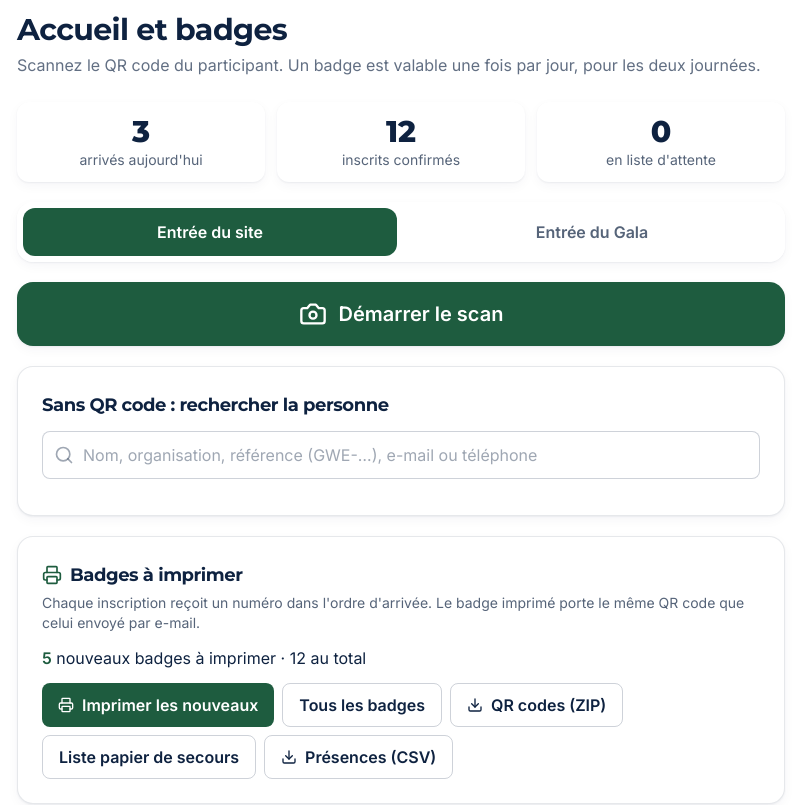
Test case: Accueil : scan des badges › permet de valider l'arrivée d'une personne sans QR code
Type "awa" into the search field labelled "Nom, organisation, référence (GWE-…), e-mail ou téléphone" at (401, 455), box [42, 431, 760, 479]
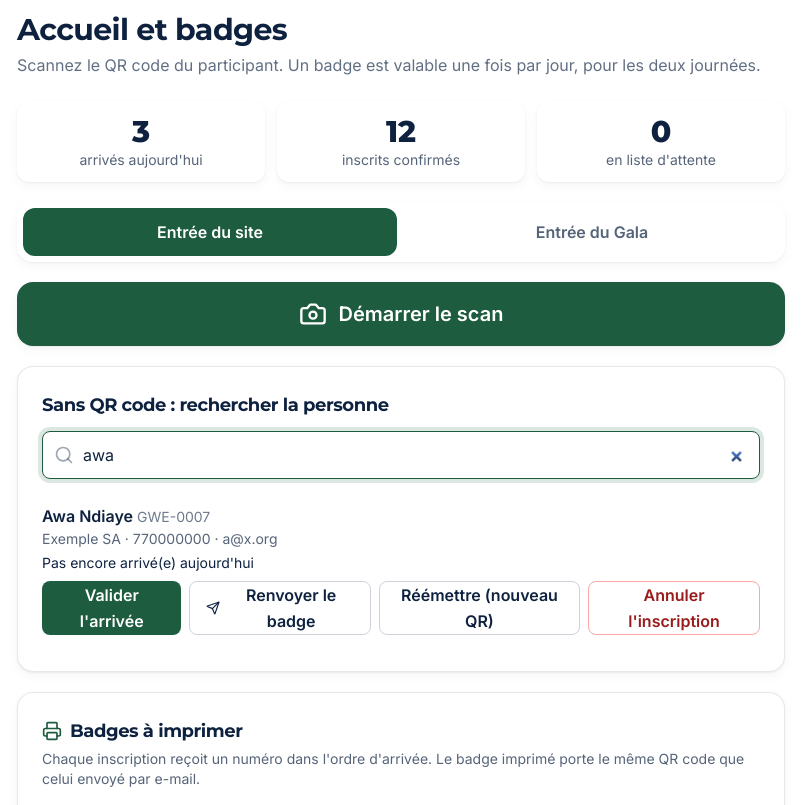
Click the button "Valider l'arrivée" at (112, 608), box [42, 581, 181, 635]
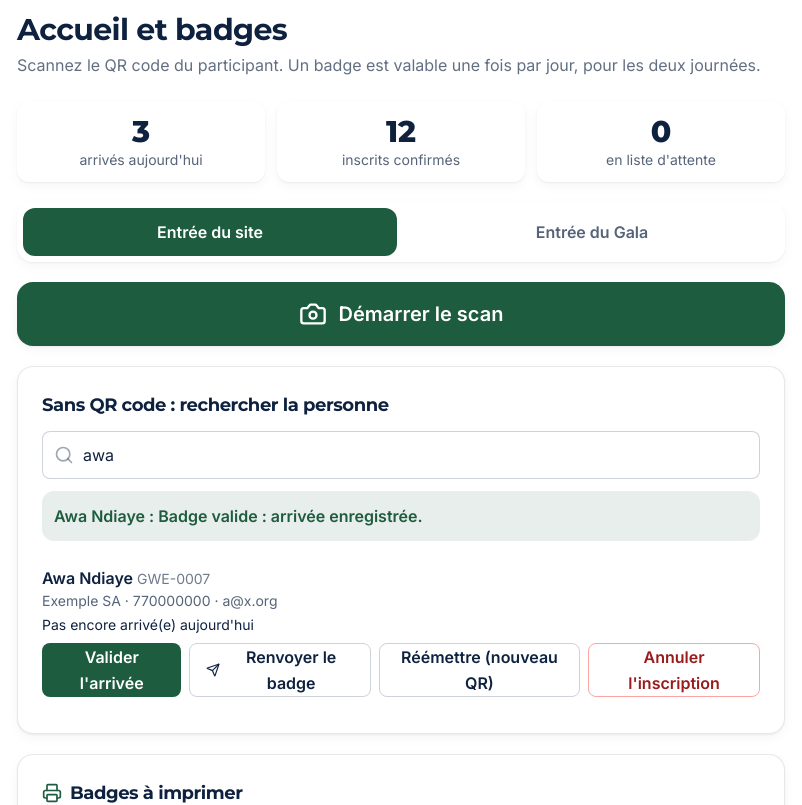
Expected: the text "Awa Ndiaye : Badge valide : arrivée enregistrée." is shown, [42, 491, 760, 541]
